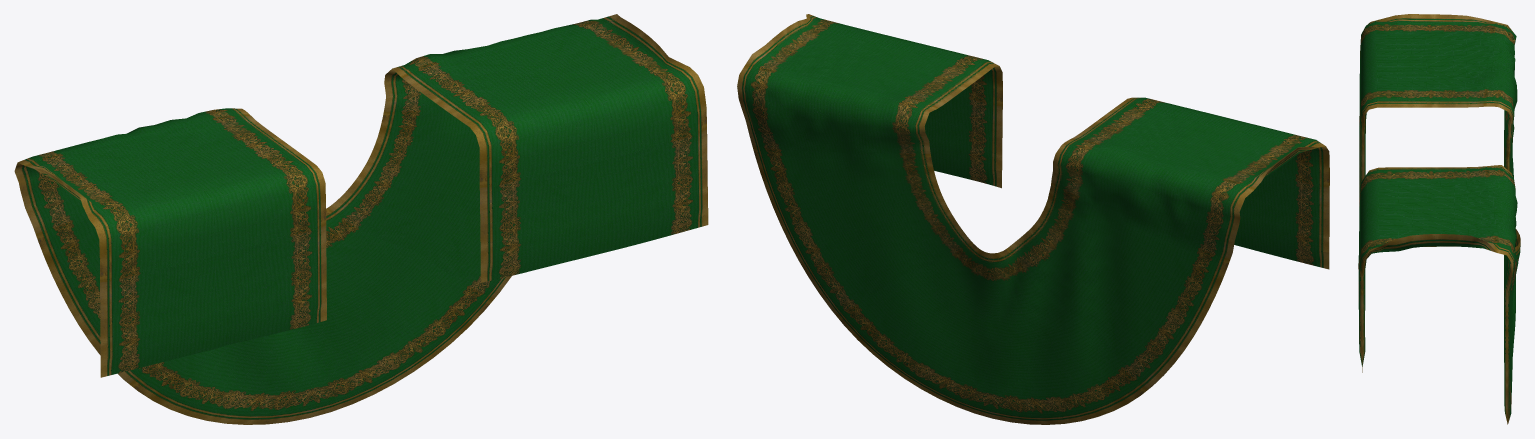
The model's file is Sponza15.gltf.
3 renders of one model, left to right at view 1: azimuth 30°, elevation 25°; view 2: azimuth 150°, elevation 25°; view 3: azimuth 270°, elevation 25°, orthographic. The views are drawn at different scales.
Size of the model in its own units: 2.64 by 1.45 by 0.761.
Materials: 1 (1 with a texture image).
